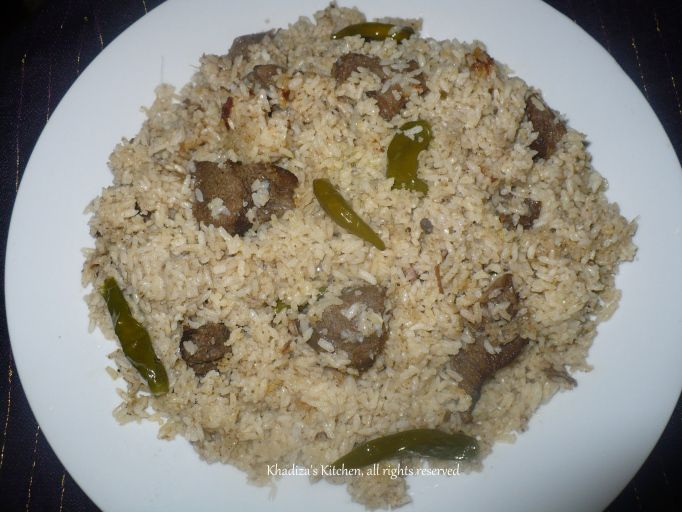tehari: (78, 1, 637, 462)
